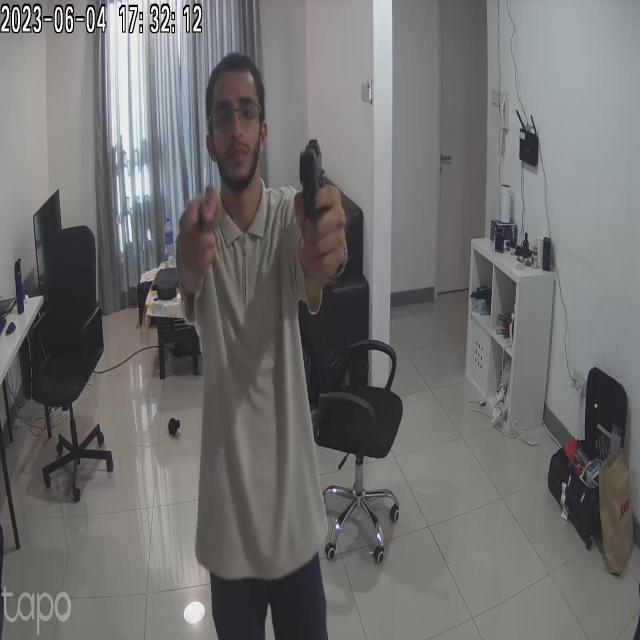Gun: (286, 126, 346, 242)
Knife: (171, 116, 217, 246)
